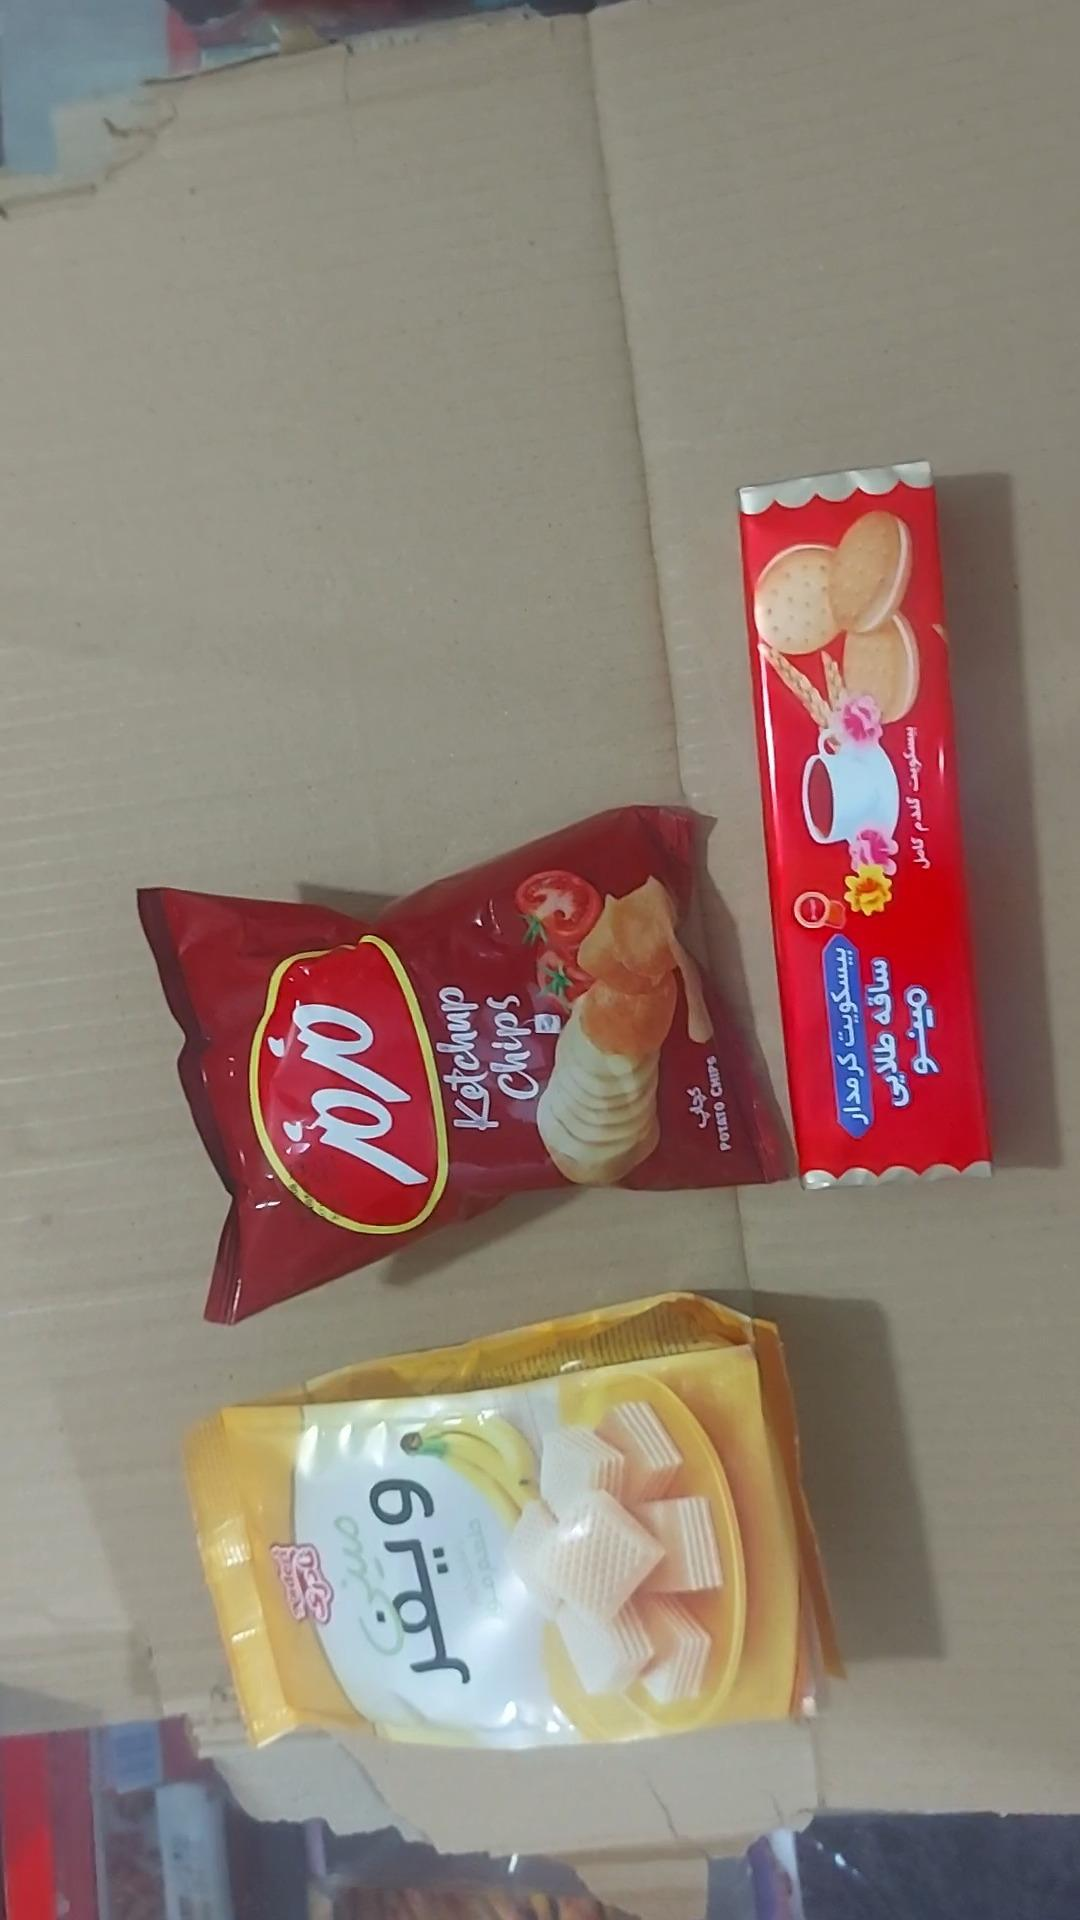Maz Maz ketchup chips: (140, 804, 791, 1323)
Minoo cream biscuit: (738, 465, 992, 1187)
Naderi mini wafer: (187, 1294, 837, 1751)
